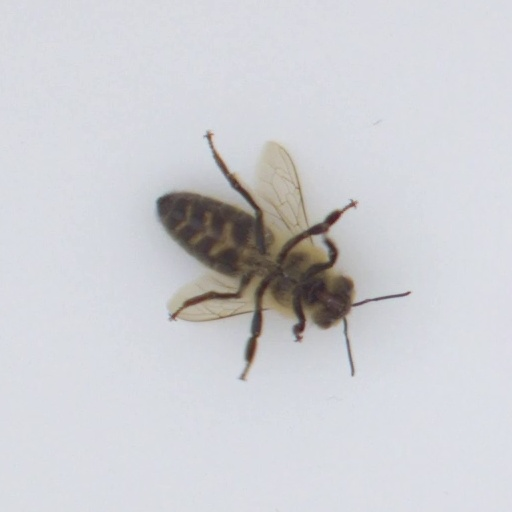Bee: (136, 173, 373, 345)
